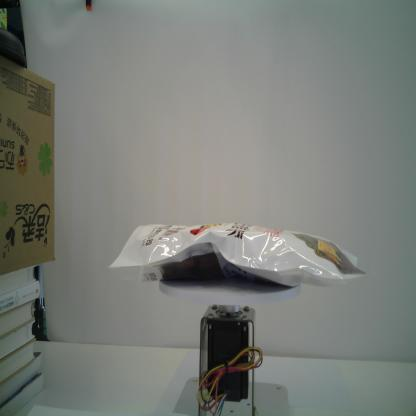Dried Food: (107, 223, 367, 286)
